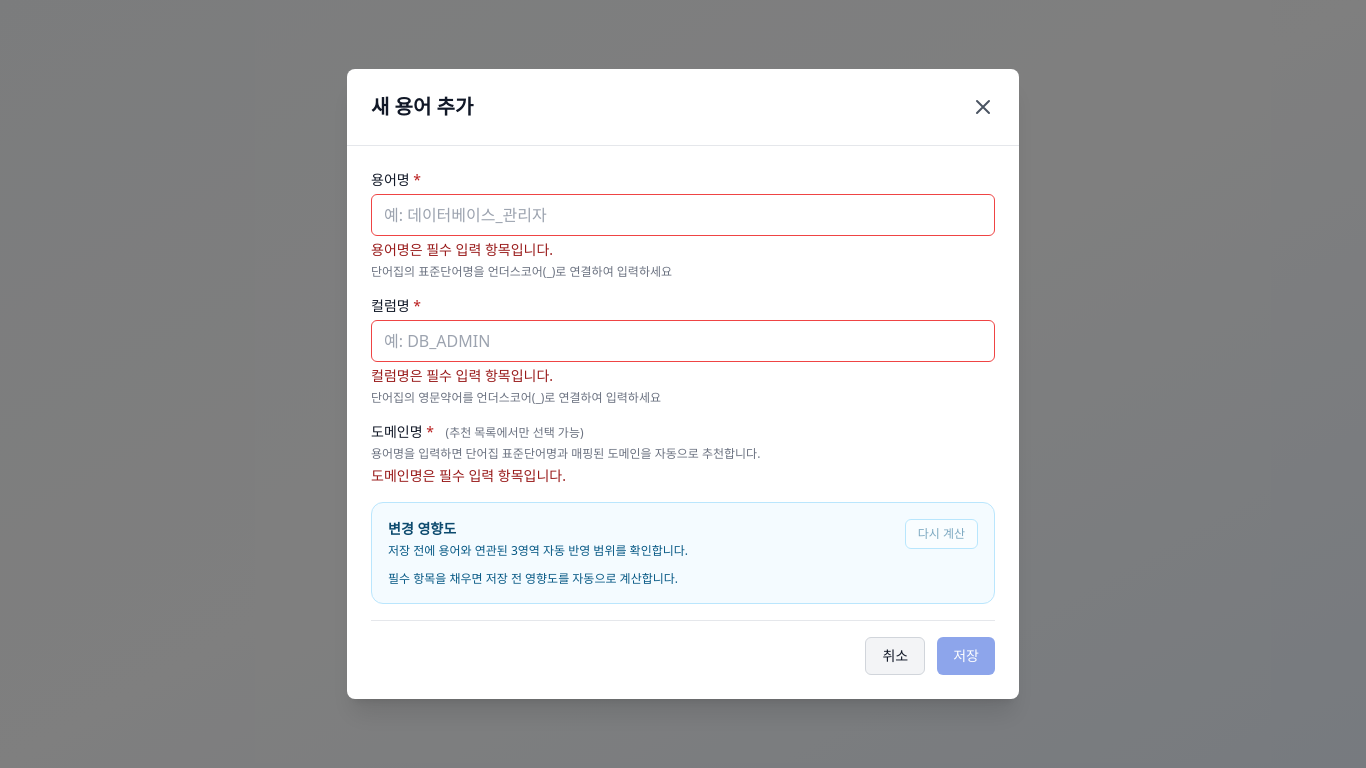
Test case: TermEditor › Form Validation › should show error message for empty required field after input and clear
Type "사용자_이름" into the field with placeholder "예: 데이터베이스_관리자". click: [683, 215]
box: [371,194,995,236]
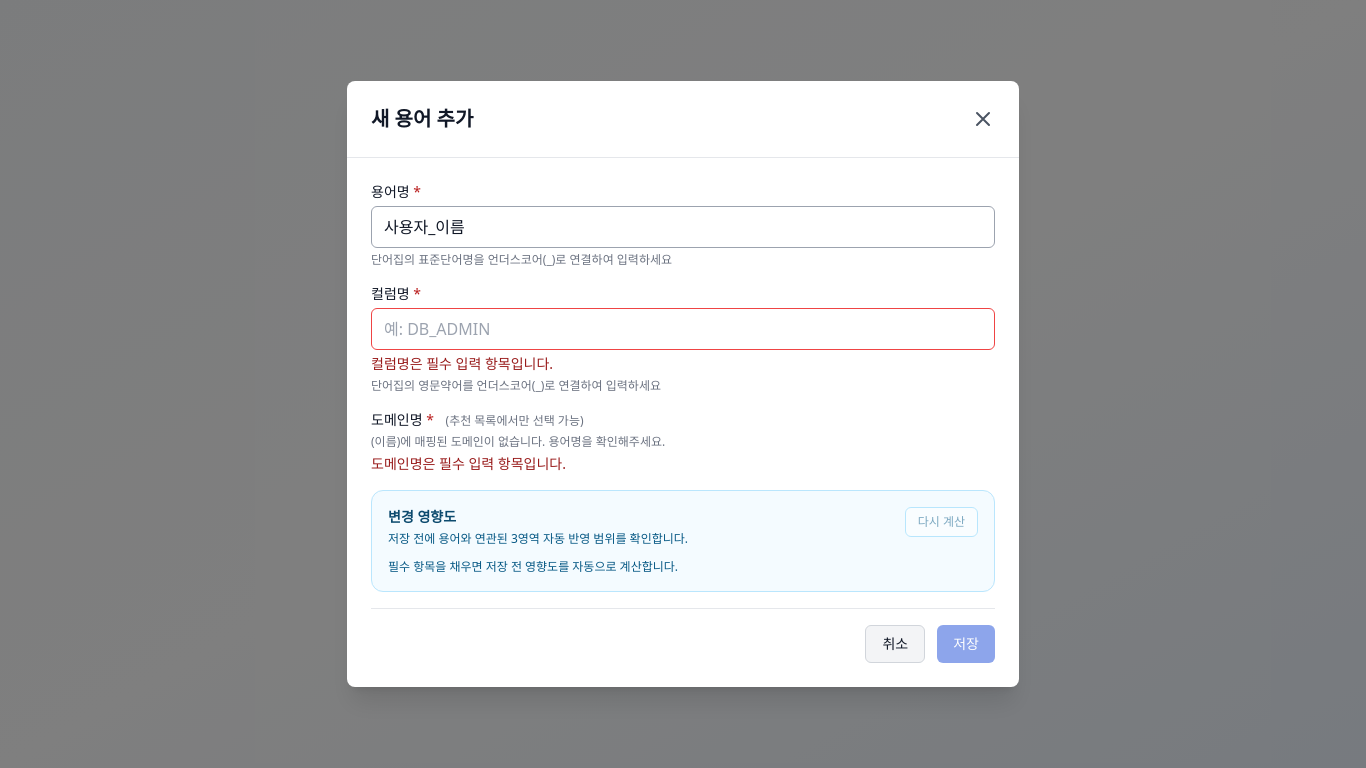
Clear the field with placeholder "예: 데이터베이스_관리자". click: [683, 227]
box: [371,206,995,248]
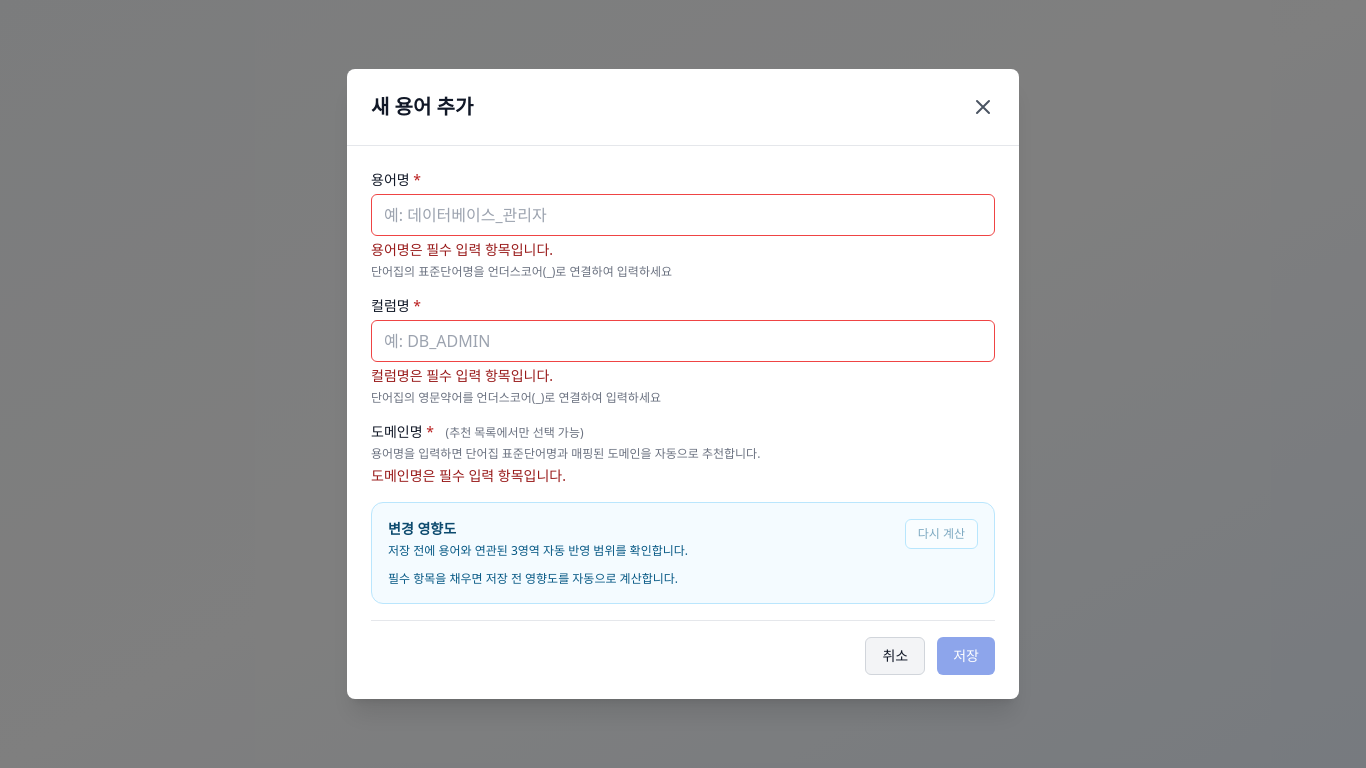
expect the text "용어명은 필수 입력 항목입니다." is shown: met, box [371,240,553,259]
